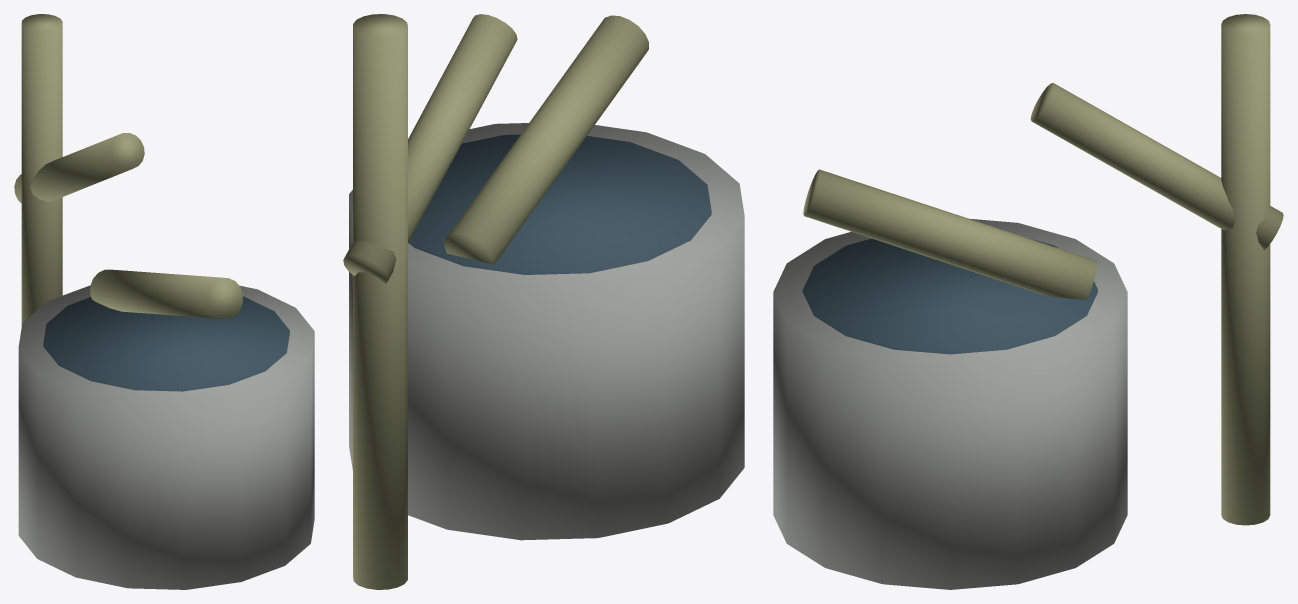
Rendered from prop_tsukubai.glb.
3 renders of one model, left to right at view 1: azimuth 30°, elevation 25°; view 2: azimuth 150°, elevation 25°; view 3: azimuth 270°, elevation 25°, orthographic. The views are drawn at different scales.
Visible parts, largest first — view 1: tsukubai; view 2: tsukubai; view 3: tsukubai.
Part boxes in pixels (x1,y1,x2,y2): tsukubai: [14, 14, 314, 589]; tsukubai: [343, 14, 744, 589]; tsukubai: [773, 14, 1283, 589].
Size of the model in its own units: 0.72 by 1.1 by 1.04.
